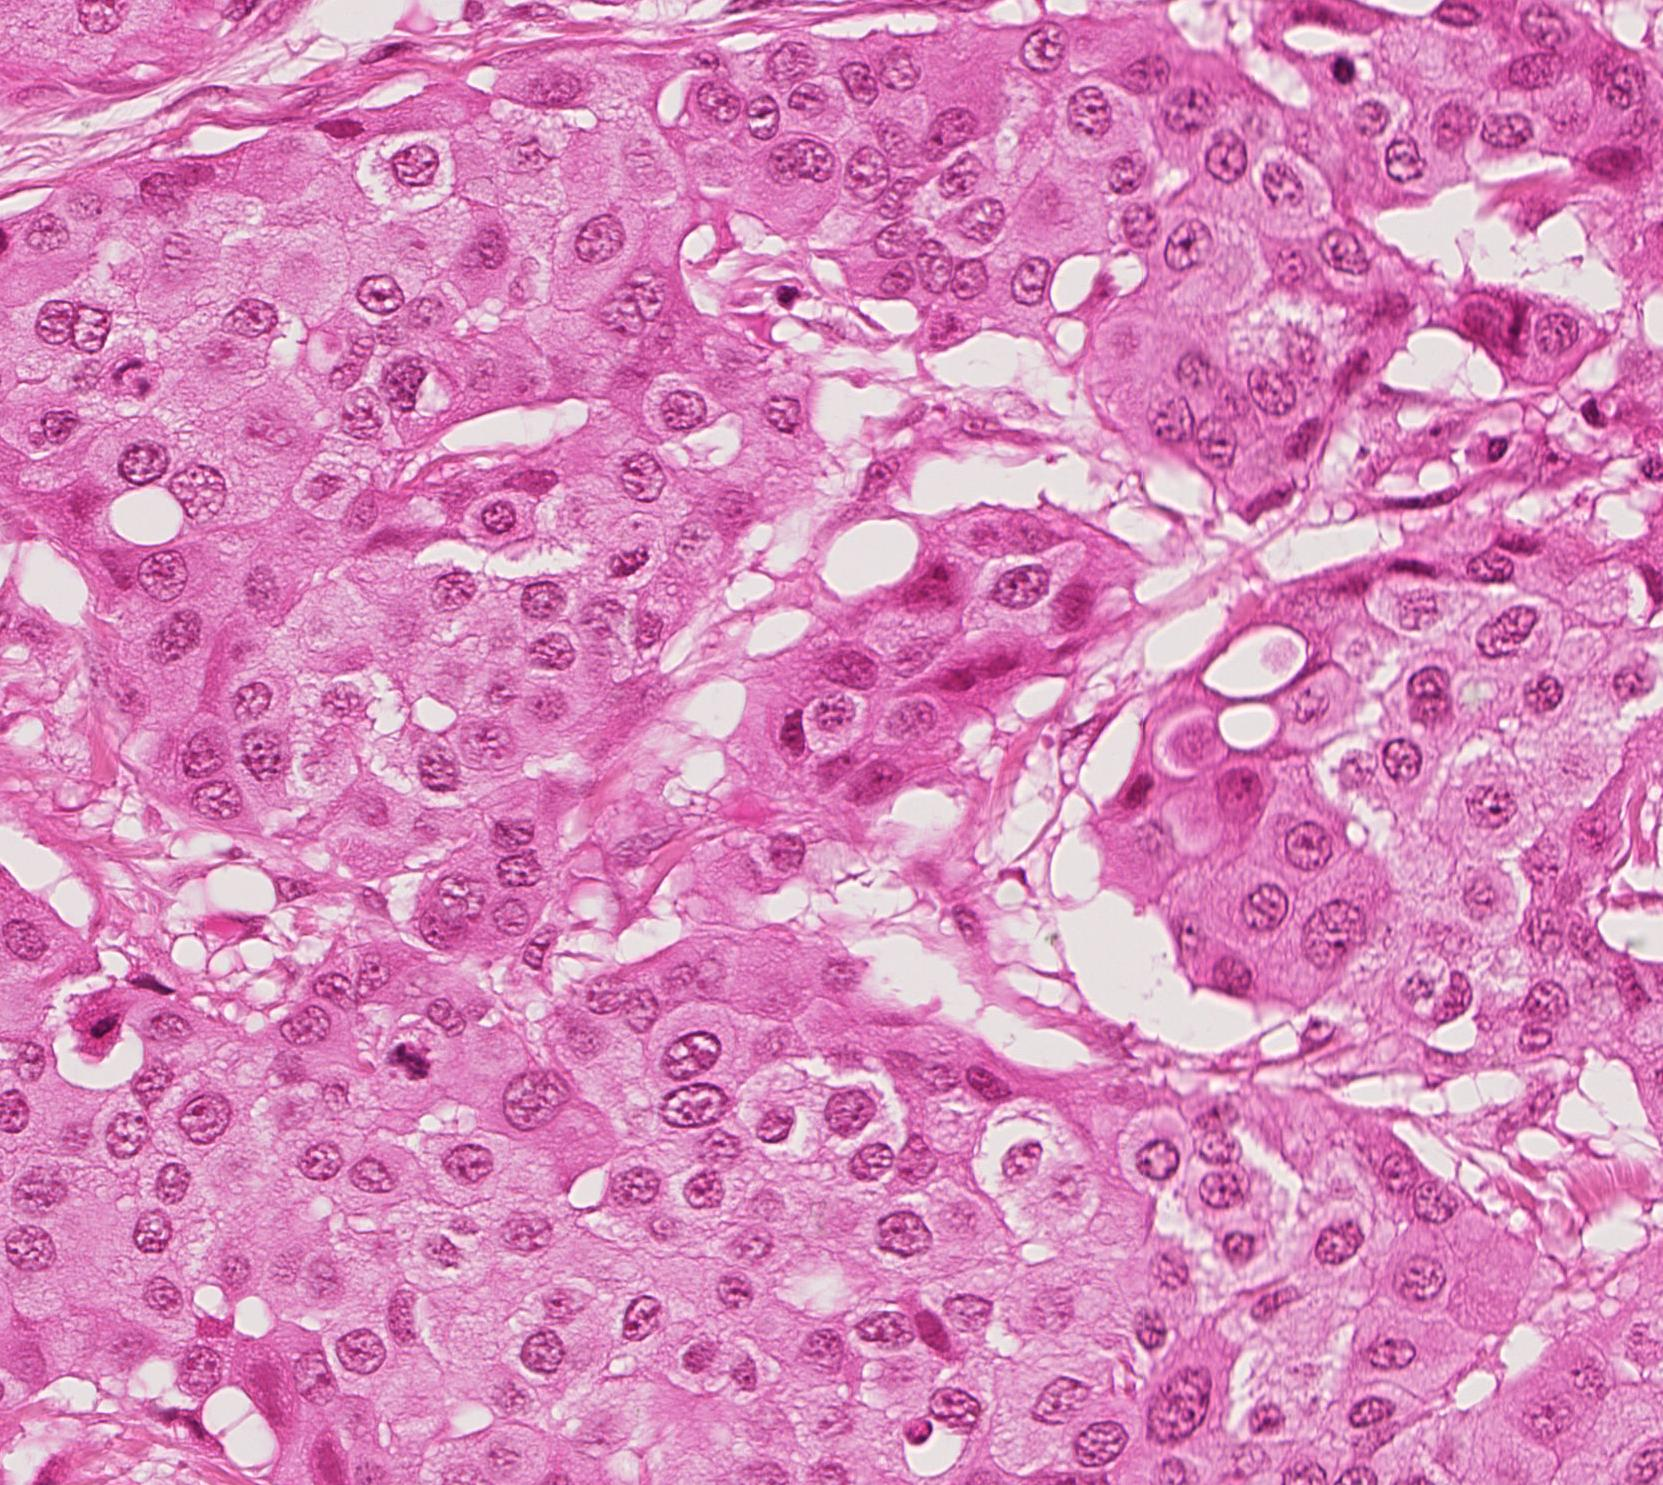mitosis: (374, 1023, 434, 1084)
